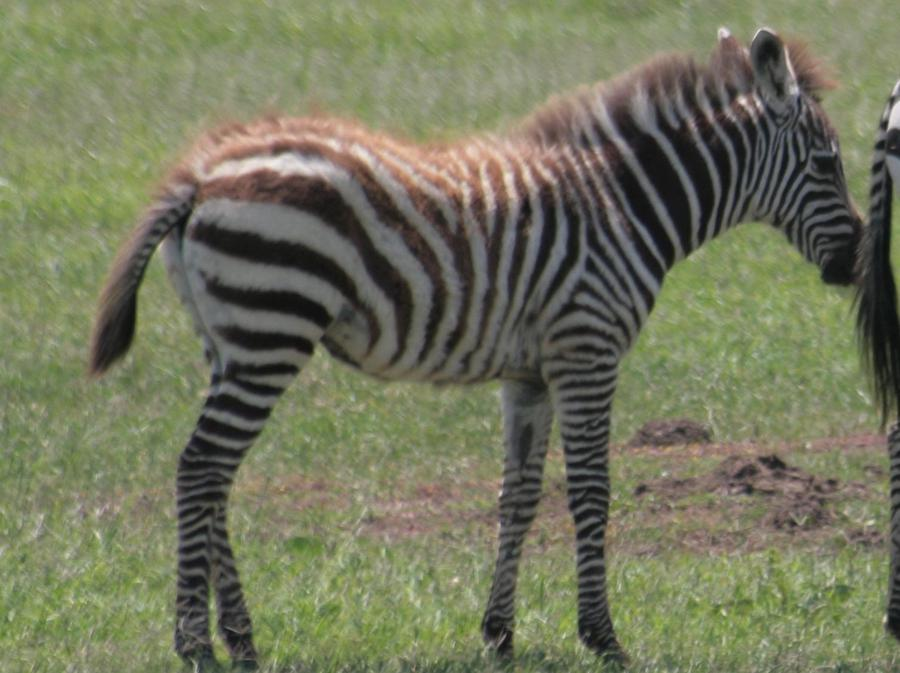zebra_plains: (180, 95, 676, 416)
